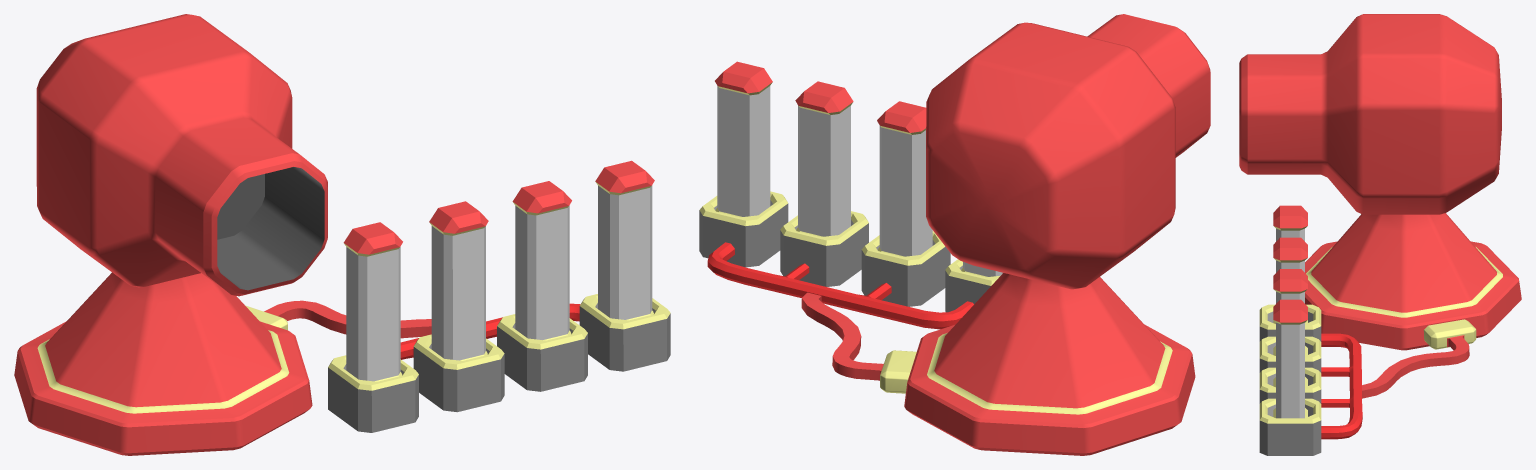
The model's file is RedSet.fbx.
3 renders of one model, left to right at view 1: azimuth 30°, elevation 25°; view 2: azimuth 150°, elevation 25°; view 3: azimuth 270°, elevation 25°, orthographic. The views are drawn at different scales.
Parts seen in each view (by area): view 1: Cannon1, Stand_CN, Battery1, Battery2, Battery3, Battery4, Setter1, Setter2, Setter3, Setter4, polySurface2, pCube6; view 2: Cannon1, Stand_CN, Battery1, Battery2, Battery3, pCube6, Setter3, Setter2, Setter4, polySurface2, Setter1; view 3: Cannon1, Stand_CN, Battery1, polySurface2, Setter4, pCube6, Battery3, Battery4, Battery2, Setter2, Setter3, Setter1.
Part boxes in pixels (x1=…): Cannon1: x1=36, y1=14, x2=327, y2=296; Stand_CN: x1=14, y1=272, x2=312, y2=455; Battery1: x1=595, y1=160, x2=654, y2=320; Battery2: x1=512, y1=181, x2=571, y2=340; Battery3: x1=429, y1=201, x2=488, y2=360; Battery4: x1=343, y1=222, x2=402, y2=381; Setter1: x1=328, y1=355, x2=418, y2=432; Setter2: x1=413, y1=334, x2=504, y2=412; Setter3: x1=497, y1=314, x2=587, y2=391; Setter4: x1=579, y1=294, x2=670, y2=371; polySurface2: x1=245, y1=300, x2=431, y2=338; pCube6: x1=400, y1=303, x2=580, y2=359; Cannon1: x1=926, y1=14, x2=1210, y2=289; Stand_CN: x1=904, y1=273, x2=1195, y2=455; Battery1: x1=715, y1=61, x2=772, y2=217; Battery2: x1=795, y1=81, x2=853, y2=236; Battery3: x1=877, y1=101, x2=932, y2=256; pCube6: x1=707, y1=242, x2=973, y2=329; Setter3: x1=780, y1=211, x2=868, y2=286; Setter2: x1=861, y1=231, x2=950, y2=306; Setter4: x1=699, y1=191, x2=788, y2=267; polySurface2: x1=801, y1=292, x2=916, y2=393; Setter1: x1=945, y1=259, x2=1000, y2=312; Cannon1: x1=1239, y1=14, x2=1501, y2=214; Stand_CN: x1=1305, y1=213, x2=1521, y2=350; Battery1: x1=1273, y1=299, x2=1307, y2=418; polySurface2: x1=1362, y1=319, x2=1476, y2=398; Setter4: x1=1259, y1=398, x2=1321, y2=455; pCube6: x1=1321, y1=333, x2=1362, y2=439; Battery3: x1=1273, y1=237, x2=1307, y2=355; Battery4: x1=1273, y1=205, x2=1307, y2=323; Battery2: x1=1273, y1=269, x2=1307, y2=387; Setter2: x1=1259, y1=336, x2=1321, y2=372; Setter3: x1=1259, y1=367, x2=1321, y2=403; Setter1: x1=1259, y1=304, x2=1321, y2=341.
Bounding box in the file's own units: 394 × 240 × 228.
